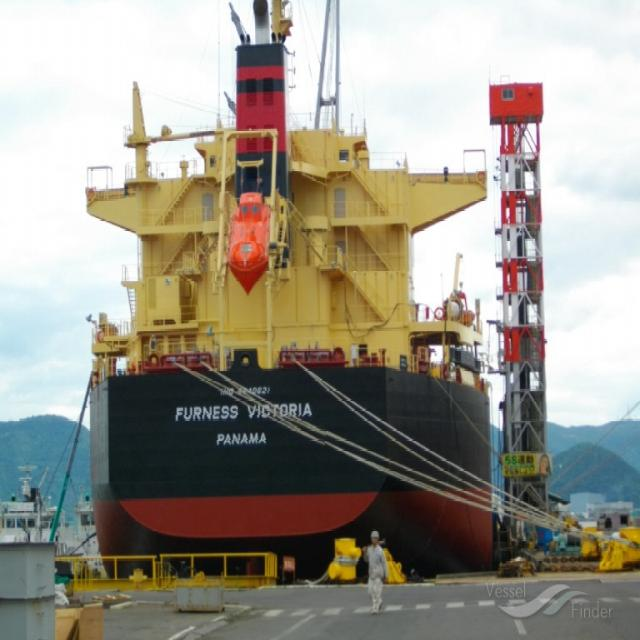OCR: (167, 384, 330, 466)
